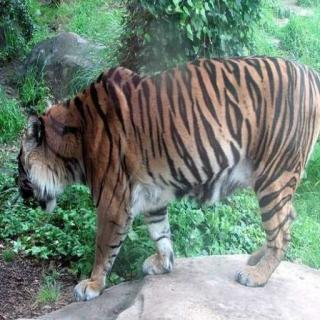Tiger: (11, 44, 320, 292)
